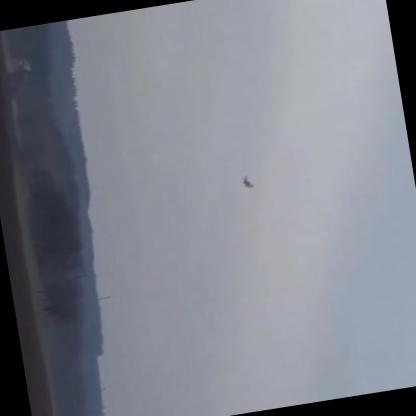plane: (237, 173, 253, 192)
